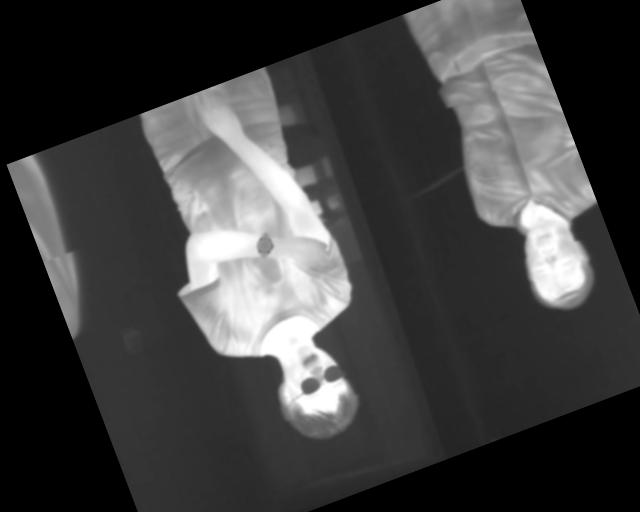face: (261, 332, 370, 453), (509, 207, 606, 321)
